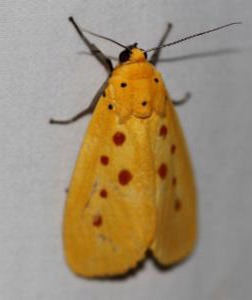Agape chloropyga: (47, 12, 241, 281)
moth: (49, 14, 243, 283)
